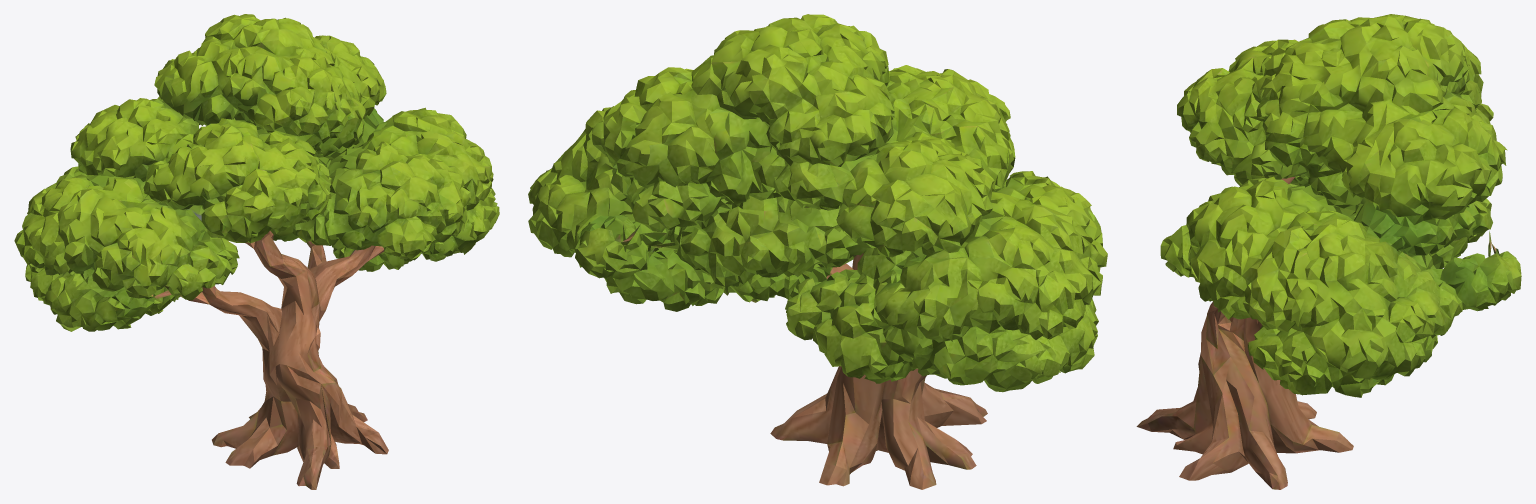
Rendered from tree_puffy.glb.
The picture shows the model from 3 angles, left to right: view 1: azimuth 30°, elevation 25°; view 2: azimuth 150°, elevation 25°; view 3: azimuth 270°, elevation 25°; orthographic projection. The views are drawn at different scales.
Size of the model in its own units: 1.9 by 1.51 by 1.21.
1 material, 1 textured.
